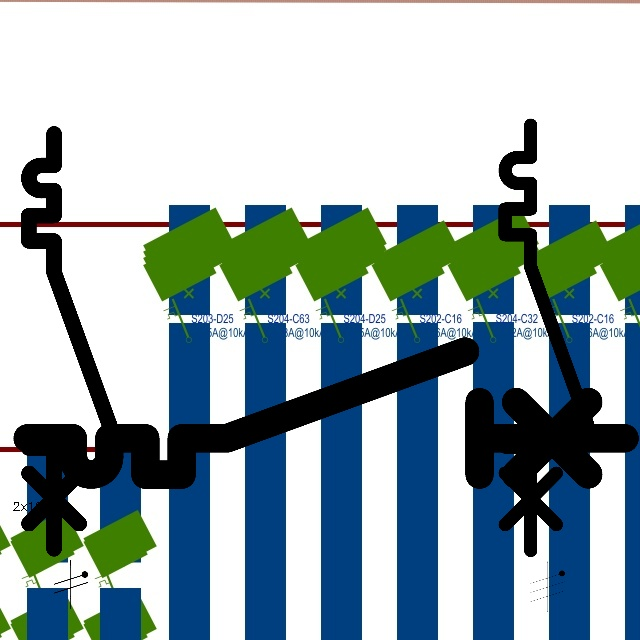interruptor_termomagnetico: (12, 336, 640, 490), (494, 114, 603, 561), (18, 123, 125, 559)
